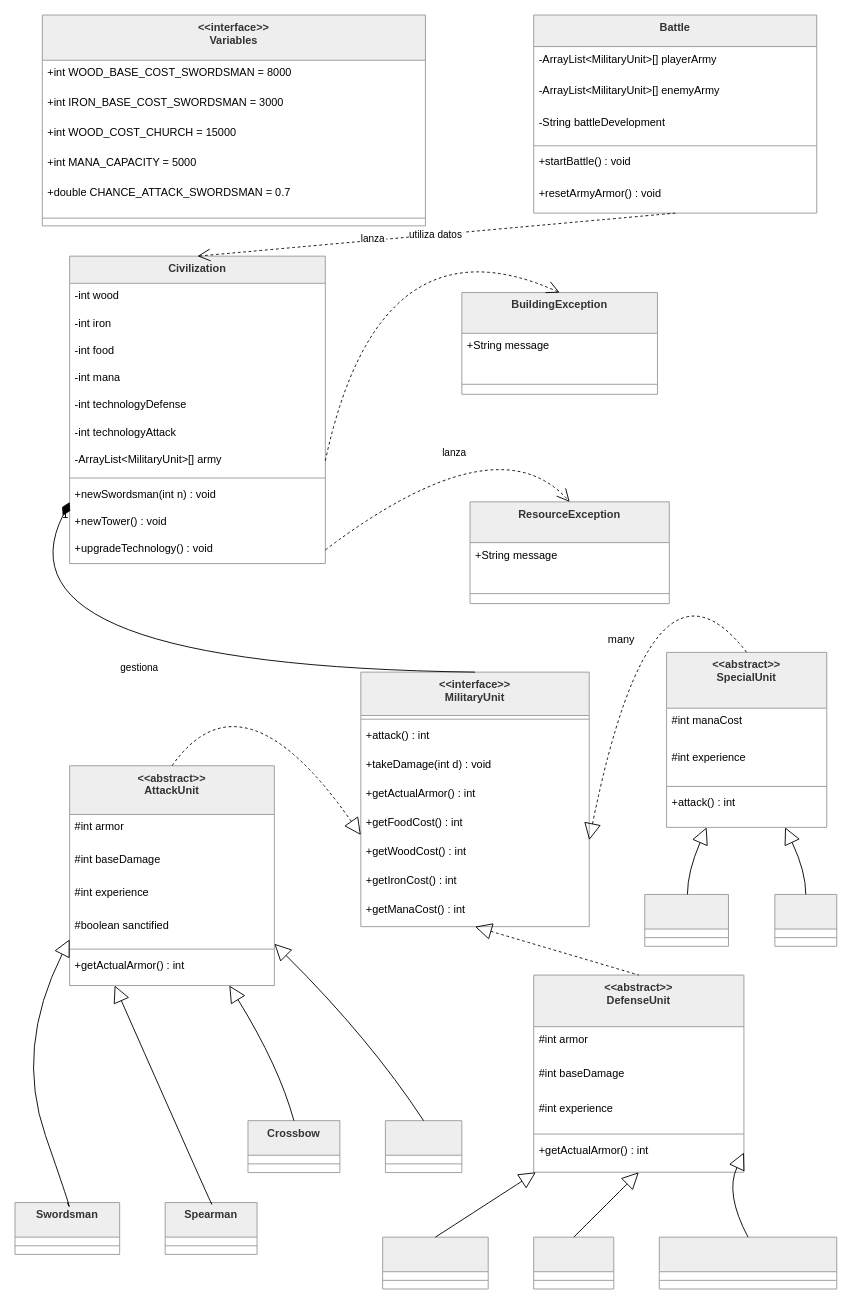
The diagram is 852 pixels wide and 1304 high, and some of its shapes have lost their labels. Each missing label, with the centre of its shape:
ArrowTower: point (435, 1262)
Cannon: point (423, 1146)
Catapult: point (573, 1262)
Magician: point (686, 920)
Priest: point (805, 920)
RocketLauncherTower: point (747, 1262)
